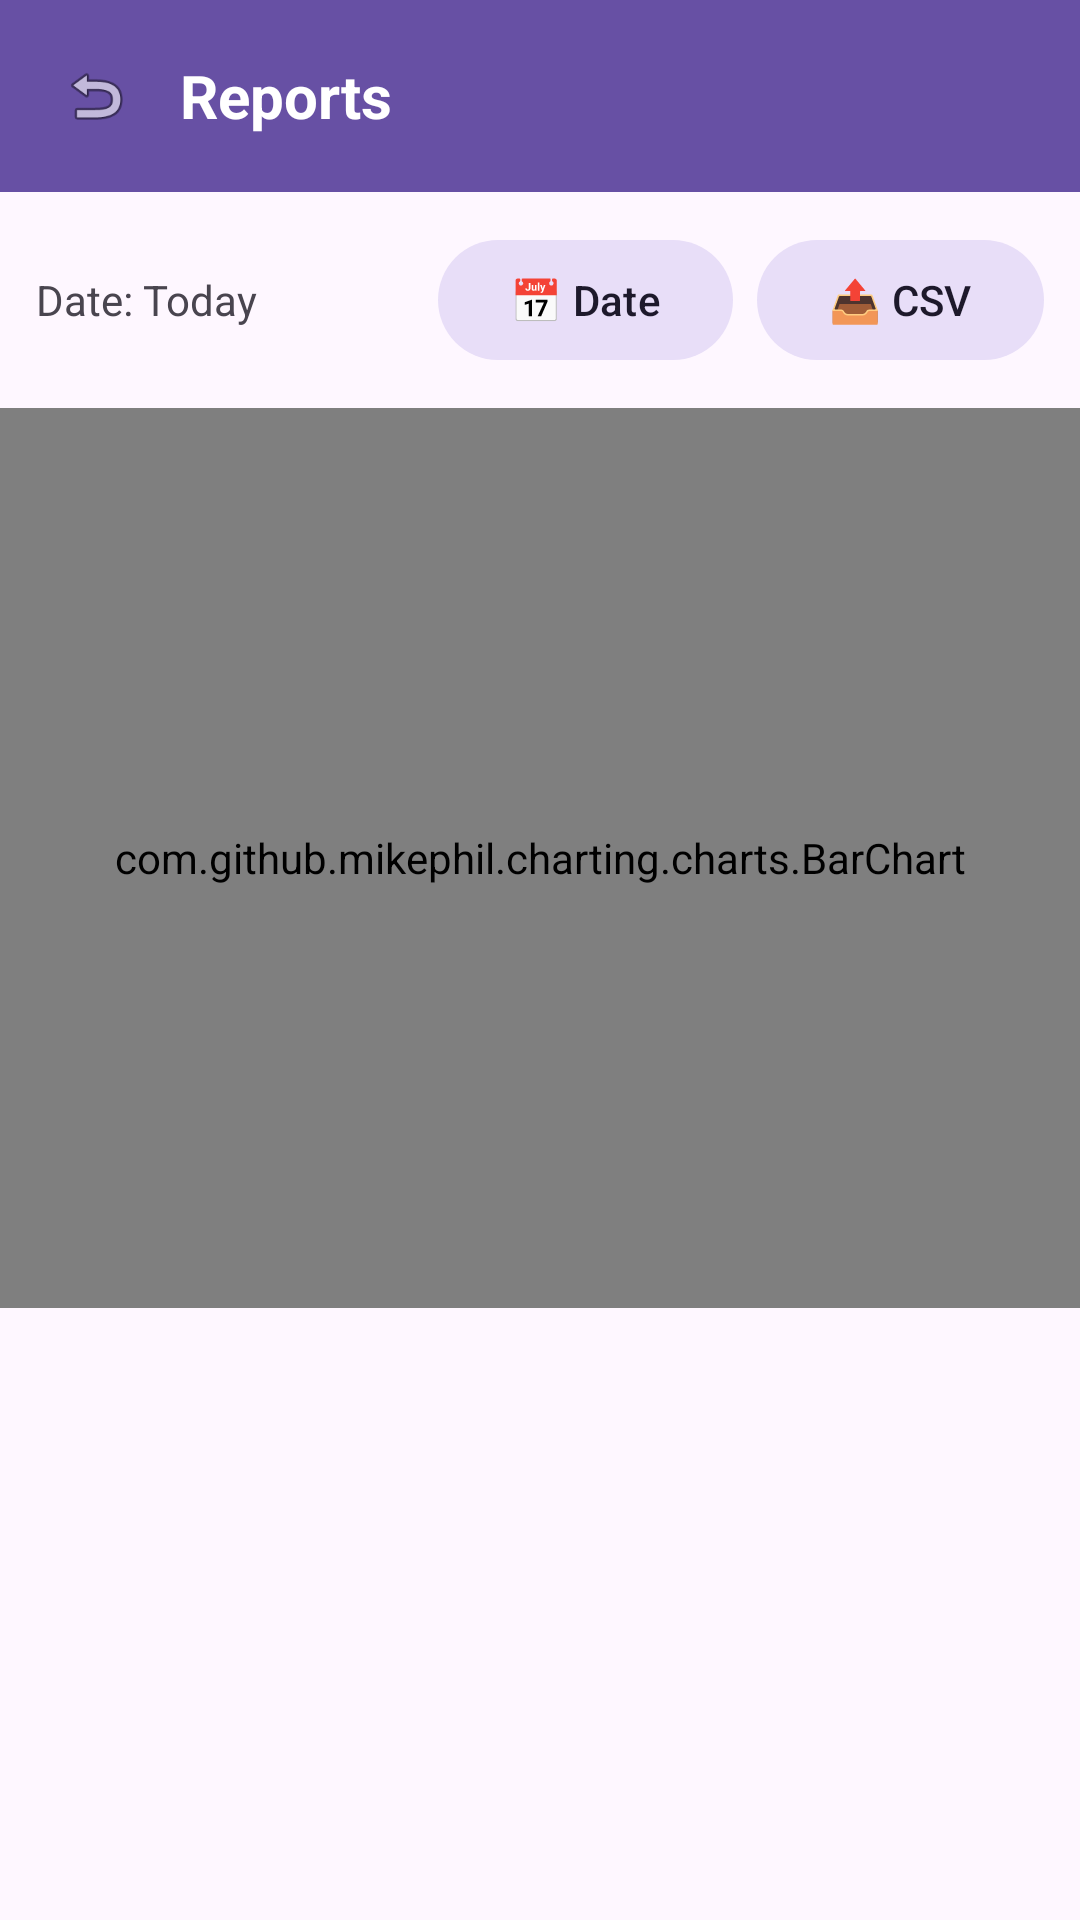

Where icons sit on this 1080px×1920px app screen, as (x1, y1, x2, y2):
revert: (71, 73, 123, 120)
